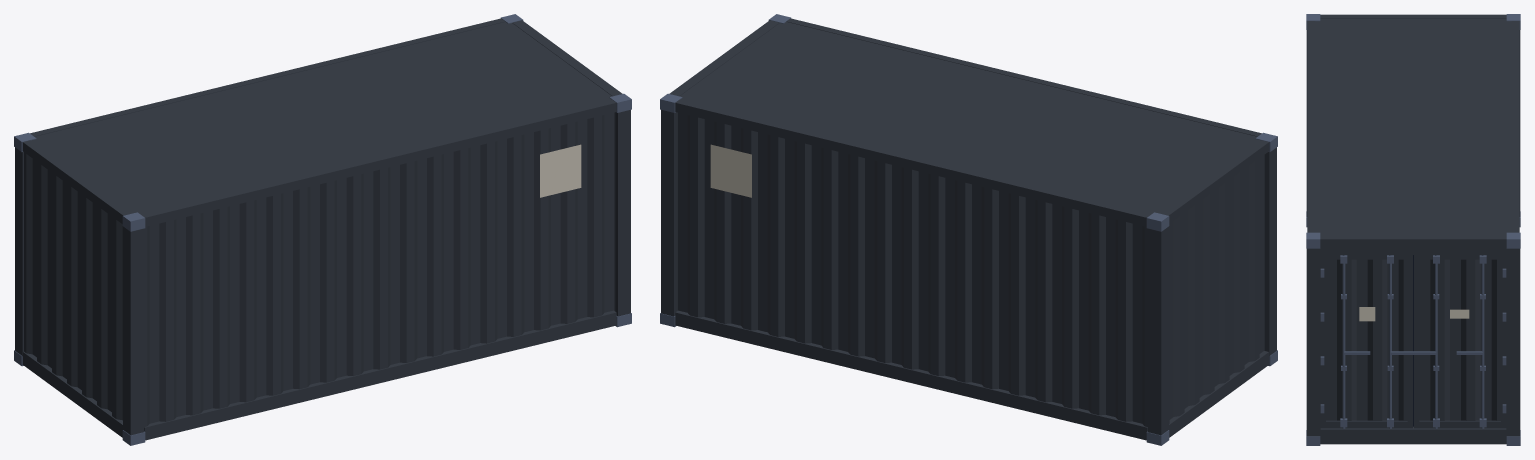
The model's file is port_container_20_graphite.glb.
The picture shows the model from 3 angles, left to right: view 1: azimuth 30°, elevation 25°; view 2: azimuth 150°, elevation 25°; view 3: azimuth 270°, elevation 25°; orthographic projection. The views are drawn at different scales.
Parts seen in each view (by area): view 1: shell, stencil, hardware; view 2: shell, stencil, hardware; view 3: shell, hardware, warning.
Boxes of the visible parts, x1=… form: shell: x1=15, y1=18, x2=630, y2=440; stencil: x1=540, y1=144, x2=581, y2=197; hardware: x1=14, y1=14, x2=631, y2=445; shell: x1=661, y1=18, x2=1276, y2=440; stencil: x1=710, y1=144, x2=751, y2=197; hardware: x1=660, y1=14, x2=1277, y2=445; shell: x1=1306, y1=14, x2=1520, y2=444; hardware: x1=1306, y1=14, x2=1520, y2=445; warning: x1=1359, y1=307, x2=1375, y2=321.
Bounding box in the file's own units: 6.06 × 2.59 × 2.44.
